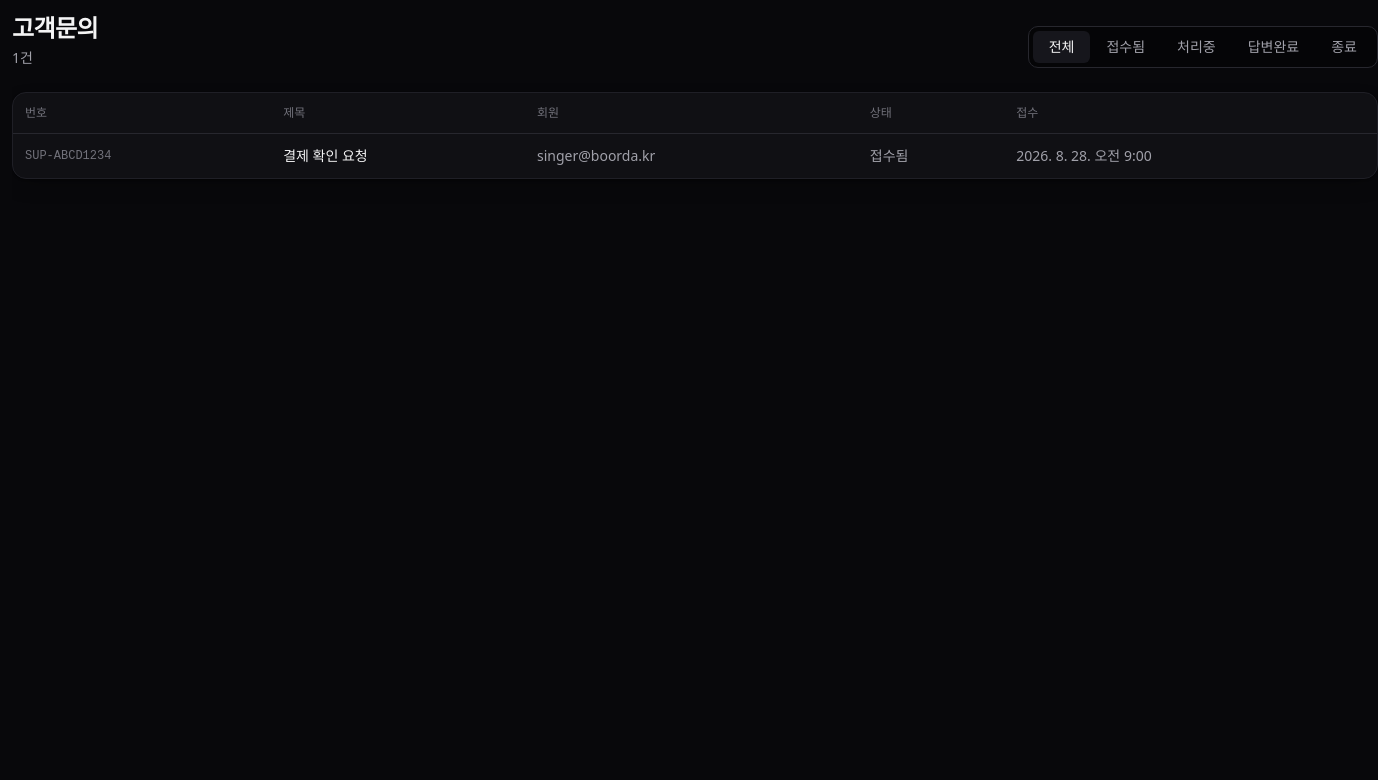
Scenario: support queue › opens a ticket and offers a status change
Click the text "결제 확인 요청".
click(325, 156)  # box [271,134,525,178]
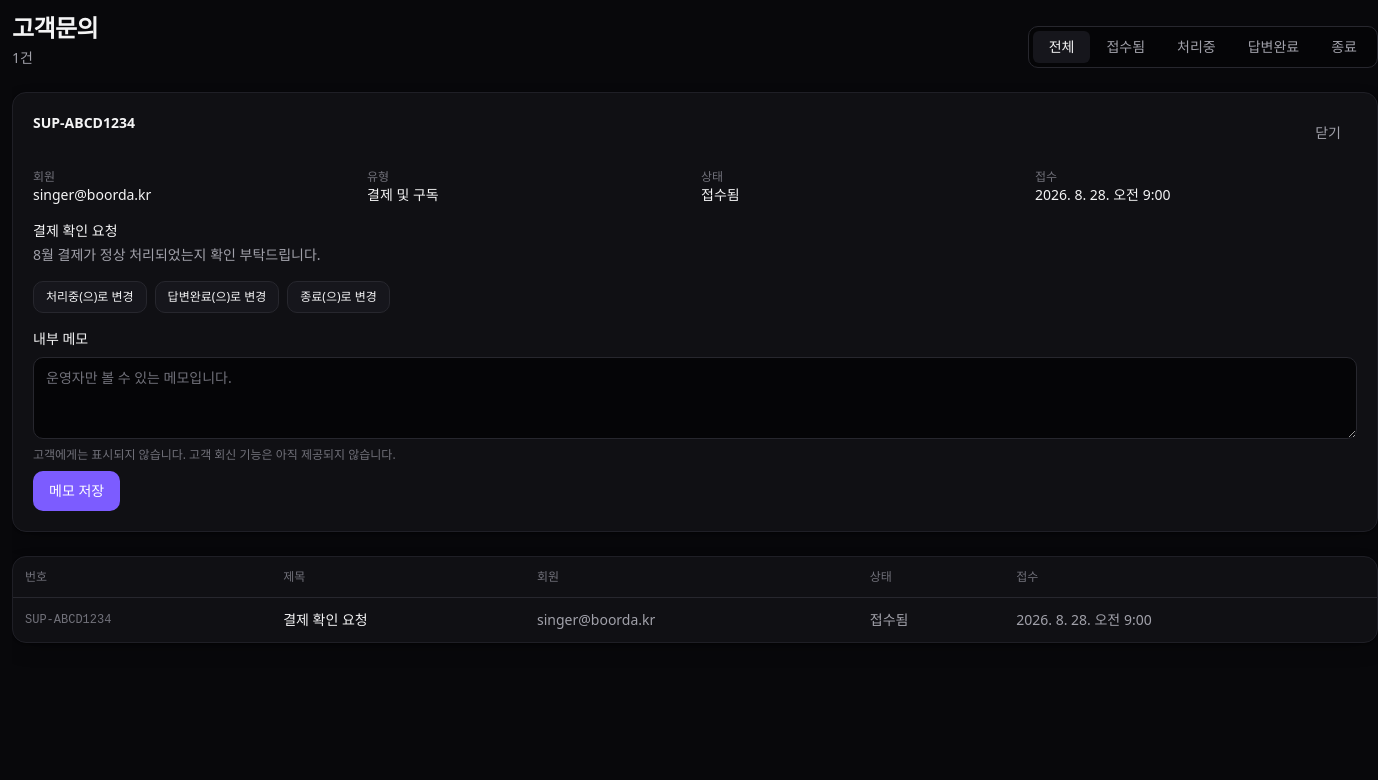
Check: the text "8월 결제가 정상 처리되었는지 확인 부탁드립니다." is shown, box [33,245,321,264]
Check: the button "답변완료(으)로 변경" is shown, box [155,281,279,313]
